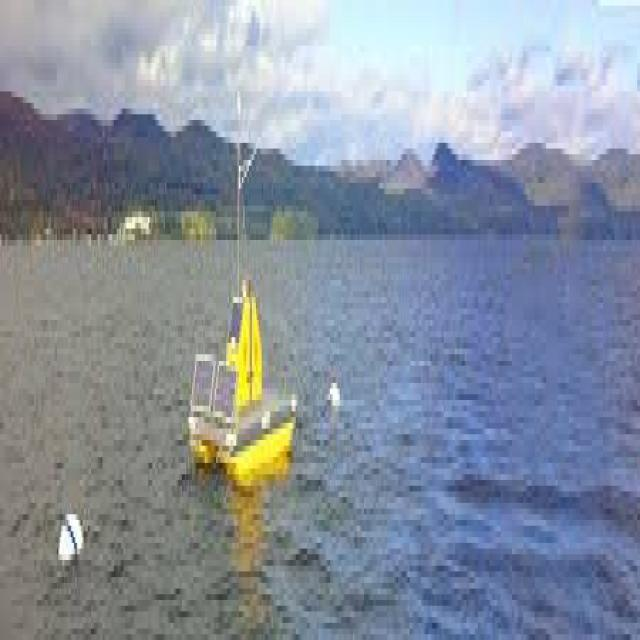marque: (183, 76, 306, 518)
